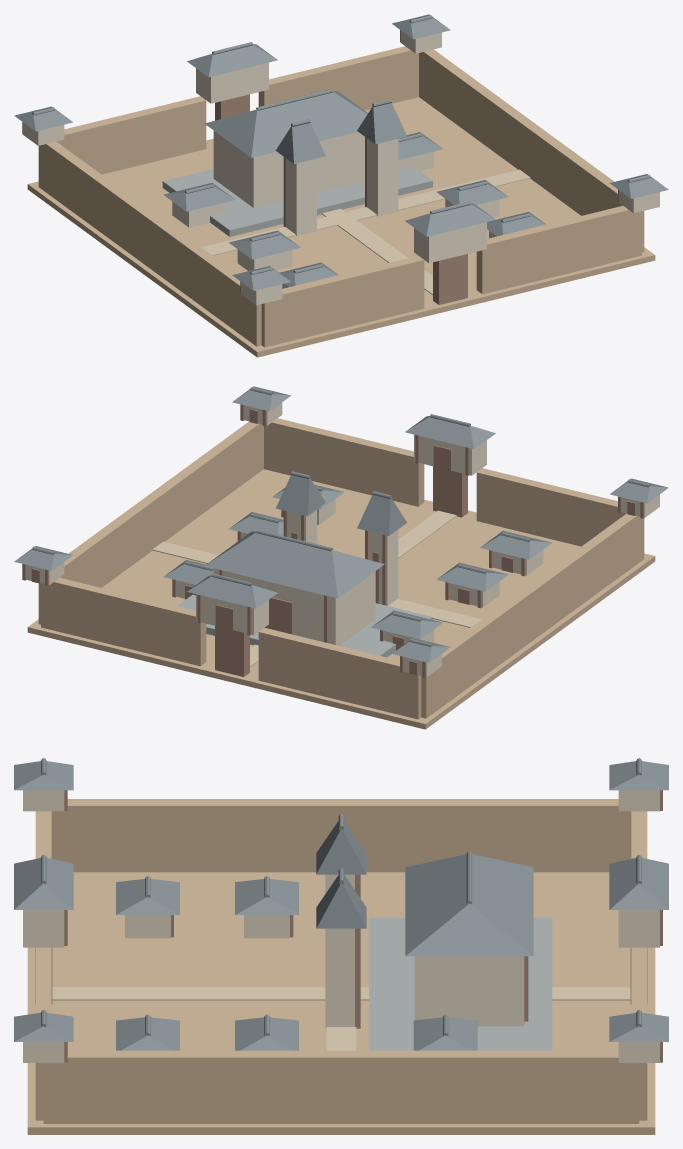
Rendered from city-capital.glb.
3 views of the same model, one above another, from view 1: azimuth 30°, elevation 25°; view 2: azimuth 150°, elevation 25°; view 3: azimuth 270°, elevation 25° (orthographic). The views are drawn at different scales.
Bounding box in the file's own units: 14.3 × 3.74 × 14.3.
